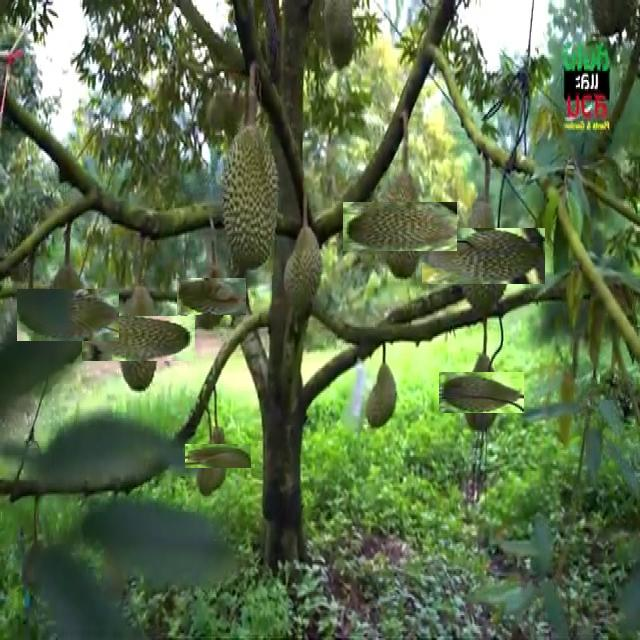durian: (218, 124, 280, 275), (439, 211, 529, 301), (359, 185, 441, 267), (99, 299, 178, 379), (29, 276, 106, 354), (281, 228, 326, 317), (450, 361, 512, 424), (184, 270, 238, 323), (361, 360, 398, 434), (195, 434, 241, 479), (196, 438, 222, 499)
